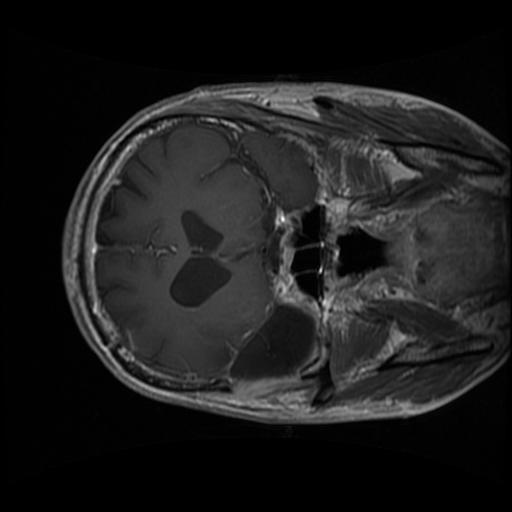glioma: (227, 300, 318, 400)
